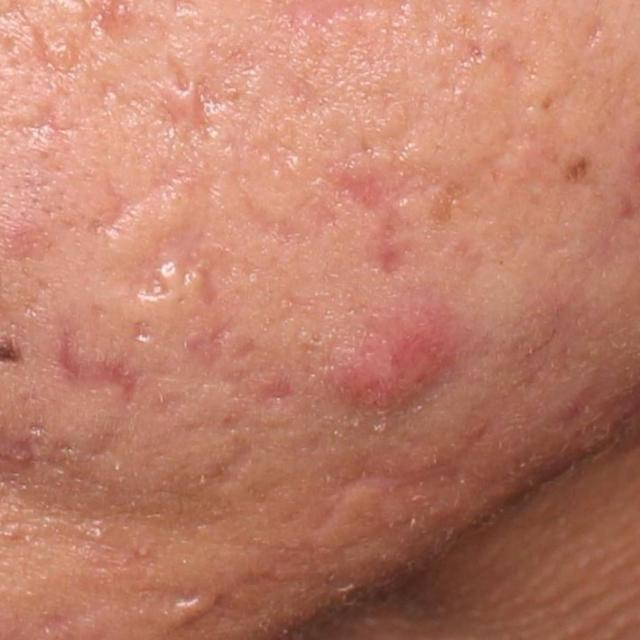nodule: (325, 292, 464, 432)
